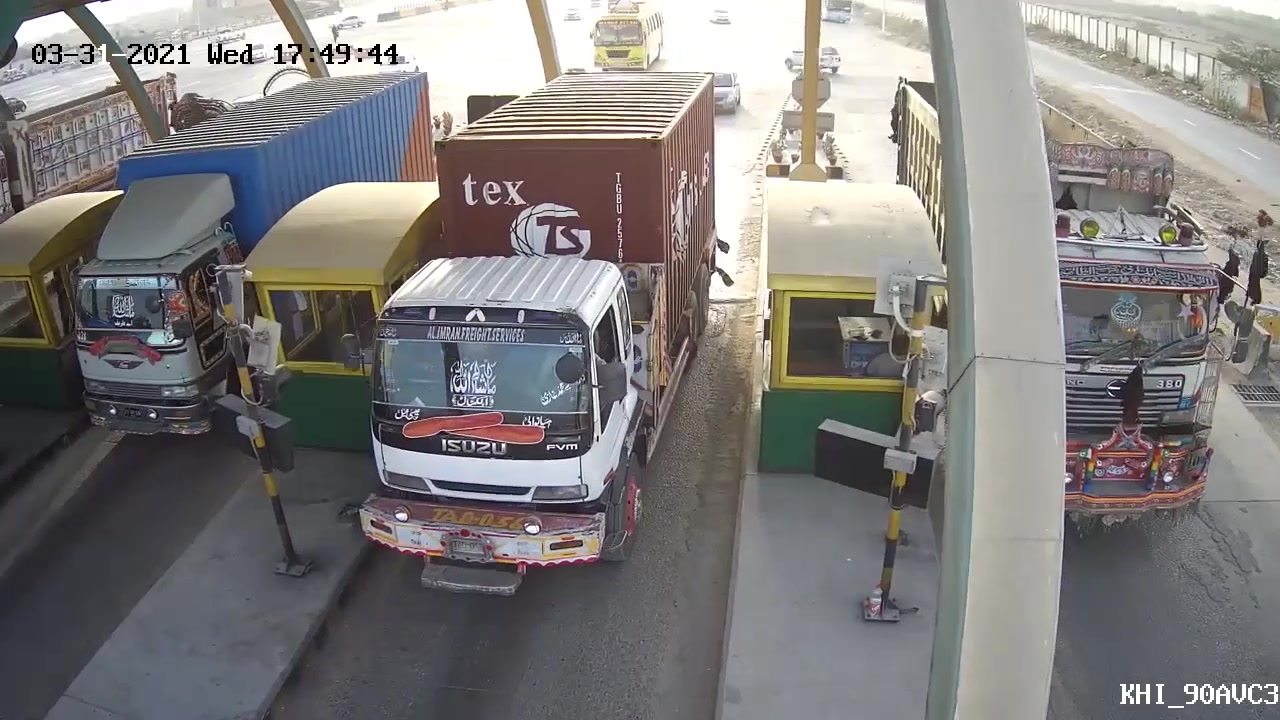F5: (358, 64, 726, 594)
